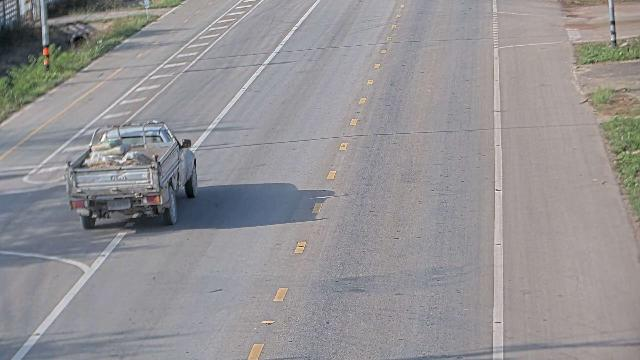pickup-truck: (63, 119, 198, 229)
